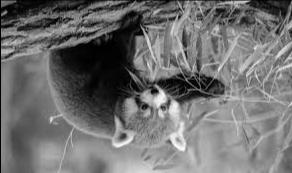Non_Gorille: (35, 20, 225, 168)
